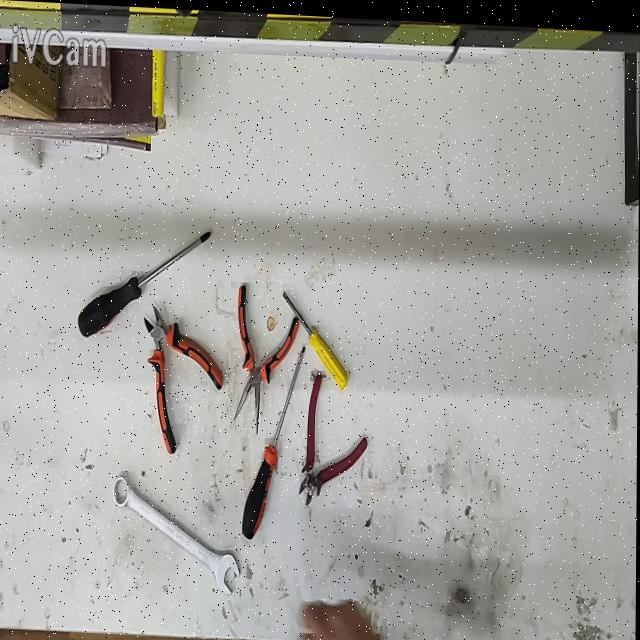Screwdriver: (78, 230, 211, 335), (241, 341, 306, 535), (283, 288, 348, 385)
